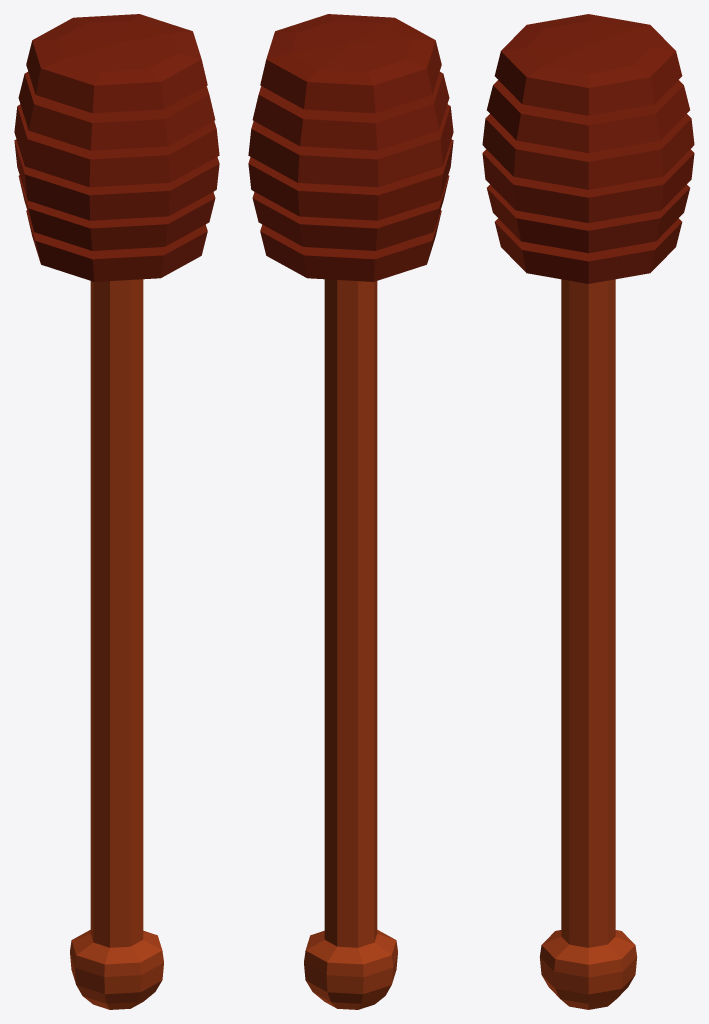
Rendered from honey wand.obj.
The picture shows the model from 3 angles, left to right: view 1: azimuth 30°, elevation 25°; view 2: azimuth 150°, elevation 25°; view 3: azimuth 270°, elevation 25°; orthographic projection.
Size of the model in its own units: 1.07 by 5.34 by 1.07.
